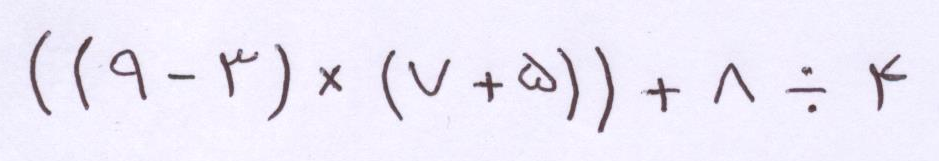character: (219, 48, 262, 99), (868, 54, 905, 109), (109, 48, 147, 100), (785, 65, 825, 114), (30, 30, 52, 115), (713, 62, 757, 103), (267, 43, 290, 120), (595, 47, 615, 132), (640, 77, 682, 117), (557, 48, 579, 122), (408, 59, 450, 97), (381, 49, 403, 120), (518, 53, 556, 94), (74, 36, 91, 108), (473, 71, 502, 102), (318, 64, 342, 94), (167, 73, 196, 85)
